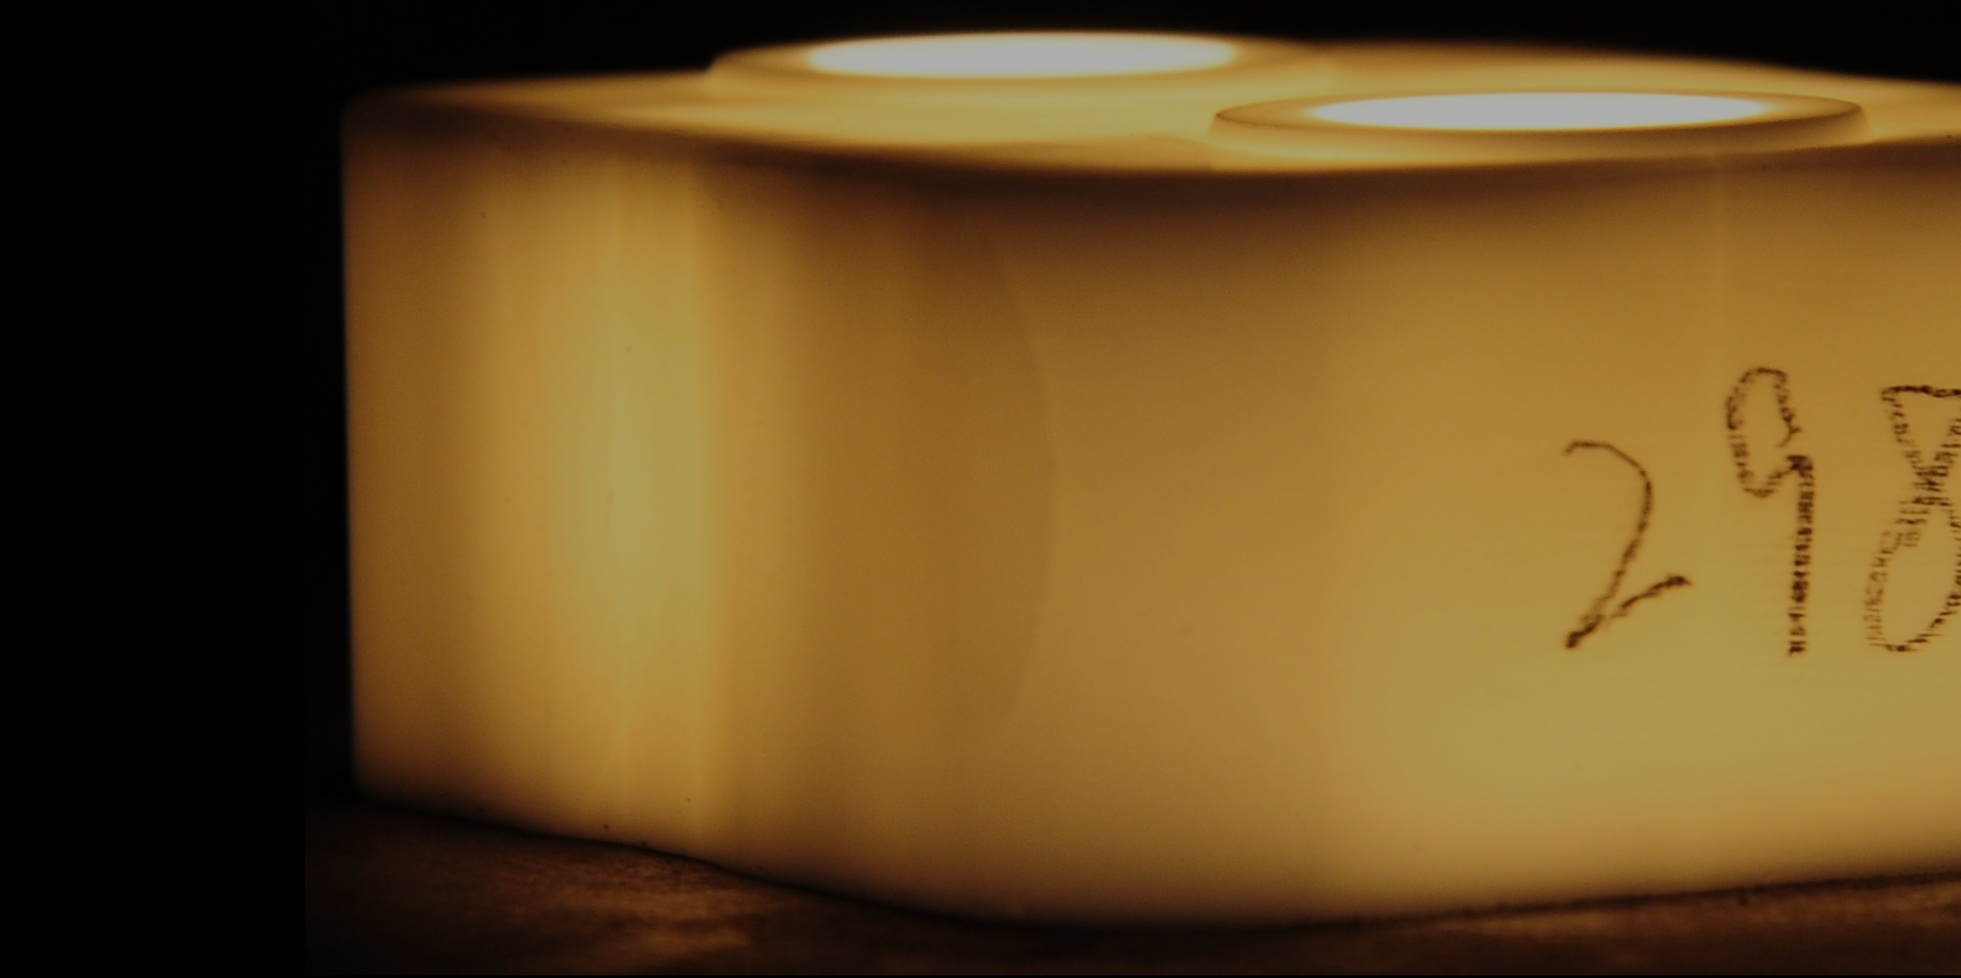flaw: (928, 183, 1083, 770)
